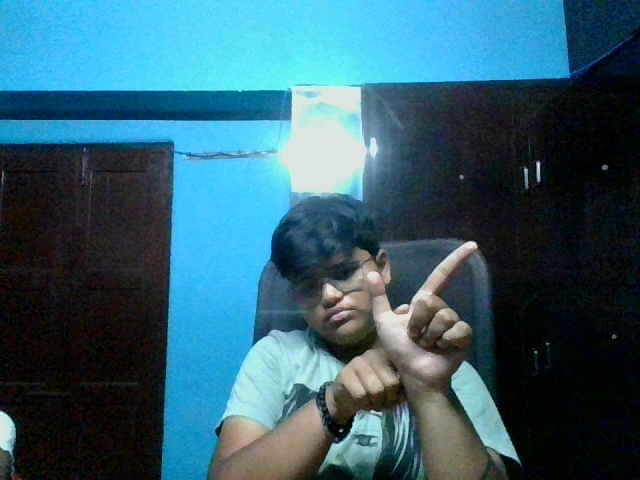Y: (328, 223, 504, 439)
